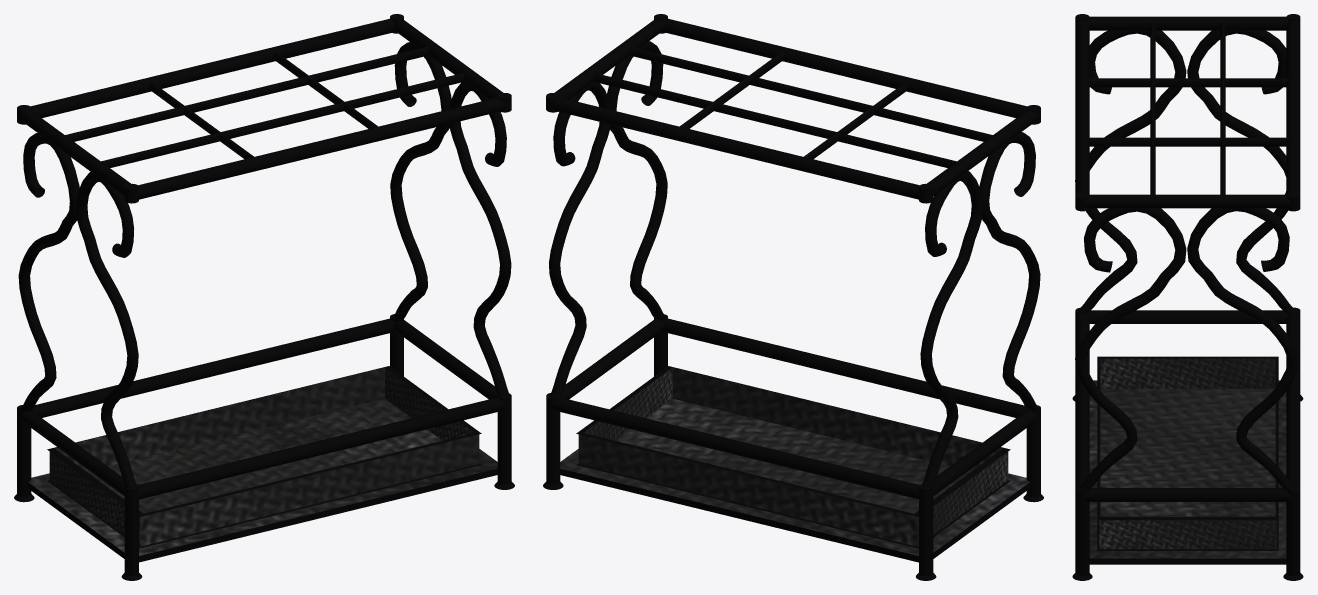
Rendered from umbrella.obj.
3 views of the same model, side by side, from view 1: azimuth 30°, elevation 25°; view 2: azimuth 150°, elevation 25°; view 3: azimuth 270°, elevation 25° (orthographic). The views are drawn at different scales.
Visible parts, largest first — view 1: modelPanel4ViewSelectedSet group62 _umbrella:pCube2, modelPanel4ViewSelectedSet group62 _umbrella:pCube1, modelPanel4ViewSelectedSet group62 _umbrella:pCylinder9, modelPanel4ViewSelectedSet group62 _umbrella:pCylinder5, modelPanel4ViewSelectedSet group62 _umbrella:pCylinder11, modelPanel4ViewSelectedSet group62 _umbrella:pCylinder6, modelPanel4ViewSelectedSet group62 _umbrella:nurbsToPoly3, modelPanel4ViewSelectedSet group62 _umbrella:nurbsToPoly2, modelPanel4ViewSelectedSet group62 _umbrella:nurbsToPoly1, modelPanel4ViewSelectedSet group62 _umbrella:nurbsToPoly4, modelPanel4ViewSelectedSet group62 _umbrella:pCylinder20, modelPanel4ViewSelectedSet group62 _umbrella:pCylinder19 (+9 smaller); view 2: modelPanel4ViewSelectedSet group62 _umbrella:pCube2, modelPanel4ViewSelectedSet group62 _umbrella:pCube1, modelPanel4ViewSelectedSet group62 _umbrella:pCylinder11, modelPanel4ViewSelectedSet group62 _umbrella:pCylinder6, modelPanel4ViewSelectedSet group62 _umbrella:pCylinder9, modelPanel4ViewSelectedSet group62 _umbrella:pCylinder5, modelPanel4ViewSelectedSet group62 _umbrella:nurbsToPoly1, modelPanel4ViewSelectedSet group62 _umbrella:nurbsToPoly4, modelPanel4ViewSelectedSet group62 _umbrella:nurbsToPoly3, modelPanel4ViewSelectedSet group62 _umbrella:nurbsToPoly2, modelPanel4ViewSelectedSet group62 _umbrella:pCylinder19, modelPanel4ViewSelectedSet group62 _umbrella:pCylinder20 (+9 smaller); view 3: modelPanel4ViewSelectedSet group62 _umbrella:pCube2, modelPanel4ViewSelectedSet group62 _umbrella:nurbsToPoly2, modelPanel4ViewSelectedSet group62 _umbrella:nurbsToPoly4, modelPanel4ViewSelectedSet group62 _umbrella:pCube1, modelPanel4ViewSelectedSet group62 _umbrella:nurbsToPoly1, modelPanel4ViewSelectedSet group62 _umbrella:nurbsToPoly3, modelPanel4ViewSelectedSet _umbrella:pCylinder12 group62, modelPanel4ViewSelectedSet group62 _umbrella:pCylinder10, modelPanel4ViewSelectedSet group62 _umbrella:pCylinder7, modelPanel4ViewSelectedSet group62 _umbrella:pCylinder9, modelPanel4ViewSelectedSet group62 _umbrella:pCylinder11, modelPanel4ViewSelectedSet group62 _umbrella:pCylinder8 (+8 smaller).
Boxes of the visible parts, x1,y1,x2,y2 form: modelPanel4ViewSelectedSet group62 _umbrella:pCube2: (47,366,481,548); modelPanel4ViewSelectedSet group62 _umbrella:pCube1: (27,449,498,562); modelPanel4ViewSelectedSet group62 _umbrella:pCylinder9: (134,97,509,199); modelPanel4ViewSelectedSet group62 _umbrella:pCylinder5: (134,397,509,499); modelPanel4ViewSelectedSet group62 _umbrella:pCylinder11: (30,18,395,117); modelPanel4ViewSelectedSet group62 _umbrella:pCylinder6: (31,318,395,417); modelPanel4ViewSelectedSet group62 _umbrella:nurbsToPoly3: (76,172,138,488); modelPanel4ViewSelectedSet group62 _umbrella:nurbsToPoly2: (449,82,511,397); modelPanel4ViewSelectedSet group62 _umbrella:nurbsToPoly1: (18,133,79,412); modelPanel4ViewSelectedSet group62 _umbrella:nurbsToPoly4: (390,42,451,322); modelPanel4ViewSelectedSet group62 _umbrella:pCylinder20: (65,46,428,141); modelPanel4ViewSelectedSet group62 _umbrella:pCylinder19: (101,73,464,167); modelPanel4ViewSelectedSet group62 _umbrella:pCube2: (576,366,1010,548); modelPanel4ViewSelectedSet group62 _umbrella:pCube1: (559,449,1030,562); modelPanel4ViewSelectedSet group62 _umbrella:pCylinder11: (550,97,922,199); modelPanel4ViewSelectedSet group62 _umbrella:pCylinder6: (550,397,922,499); modelPanel4ViewSelectedSet group62 _umbrella:pCylinder9: (662,18,1027,117); modelPanel4ViewSelectedSet group62 _umbrella:pCylinder5: (662,318,1026,417); modelPanel4ViewSelectedSet group62 _umbrella:nurbsToPoly1: (920,171,983,487); modelPanel4ViewSelectedSet group62 _umbrella:nurbsToPoly4: (549,81,610,397); modelPanel4ViewSelectedSet group62 _umbrella:nurbsToPoly3: (979,132,1040,410); modelPanel4ViewSelectedSet group62 _umbrella:nurbsToPoly2: (607,41,667,319); modelPanel4ViewSelectedSet group62 _umbrella:pCylinder19: (629,46,992,141); modelPanel4ViewSelectedSet group62 _umbrella:pCylinder20: (593,73,956,167); modelPanel4ViewSelectedSet group62 _umbrella:pCube2: (1097,356,1278,550); modelPanel4ViewSelectedSet group62 _umbrella:nurbsToPoly2: (1075,207,1186,490); modelPanel4ViewSelectedSet group62 _umbrella:nurbsToPoly4: (1187,208,1298,490); modelPanel4ViewSelectedSet group62 _umbrella:pCube1: (1089,380,1286,564); modelPanel4ViewSelectedSet group62 _umbrella:nurbsToPoly1: (1187,30,1295,313); modelPanel4ViewSelectedSet group62 _umbrella:nurbsToPoly3: (1075,30,1186,312); modelPanel4ViewSelectedSet _umbrella:pCylinder12 group62: (1081,194,1294,208); modelPanel4ViewSelectedSet group62 _umbrella:pCylinder10: (1087,16,1288,30); modelPanel4ViewSelectedSet group62 _umbrella:pCylinder7: (1081,488,1294,501); modelPanel4ViewSelectedSet group62 _umbrella:pCylinder9: (1075,20,1089,202); modelPanel4ViewSelectedSet group62 _umbrella:pCylinder11: (1286,20,1300,194); modelPanel4ViewSelectedSet group62 _umbrella:pCylinder8: (1087,310,1288,323).
Size of the model in its own units: 62.87 by 59.96 by 32.91.
